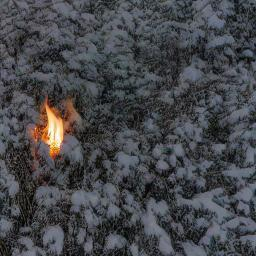Small fire: (34, 98, 77, 153)
